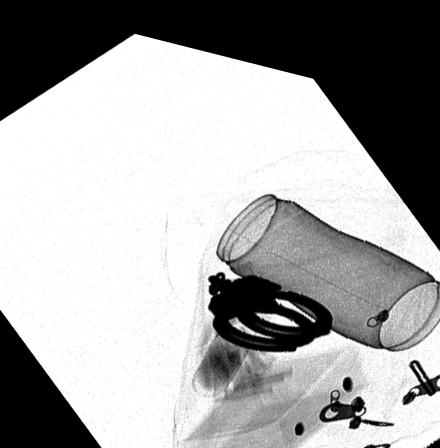HandCuffs: (207, 260, 333, 337)
